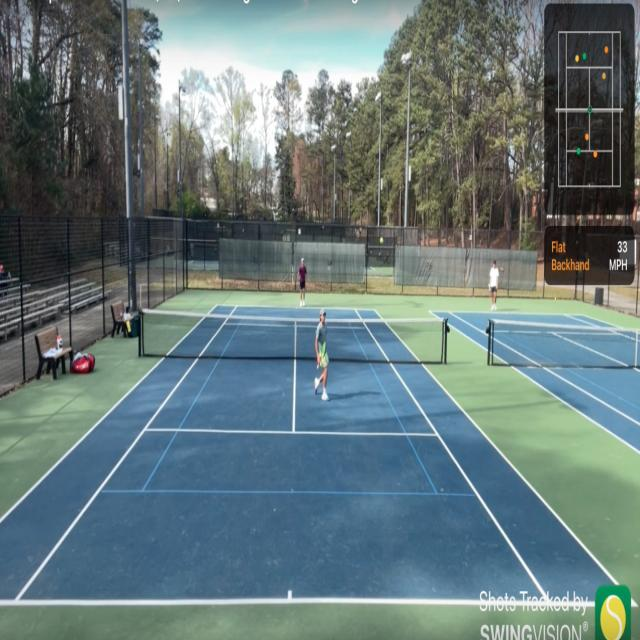ball: (379, 237, 384, 244)
